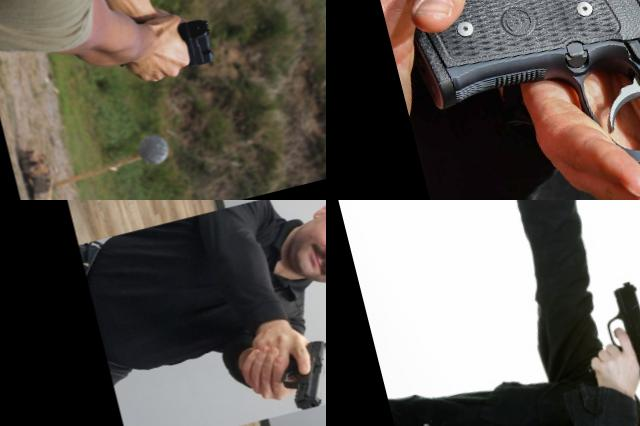handgun: (385, 0, 640, 200), (563, 276, 640, 399), (266, 333, 326, 415), (154, 12, 220, 76), (519, 200, 604, 230)
